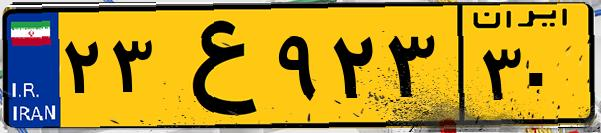0: (525, 38, 570, 115)
2: (330, 28, 385, 110), (57, 26, 110, 100)
3: (385, 28, 445, 110), (475, 38, 525, 113), (110, 28, 158, 98)
9: (270, 28, 330, 110)
ع: (158, 12, 270, 120)
